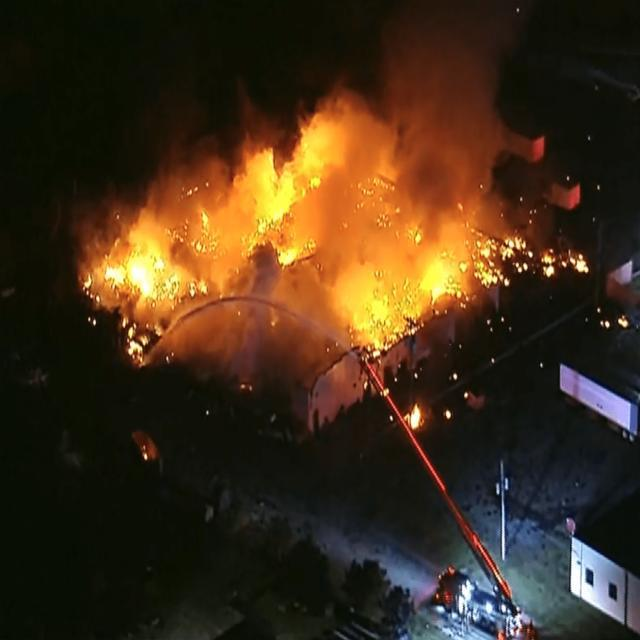fire: (240, 140, 478, 354), (99, 206, 206, 340)
